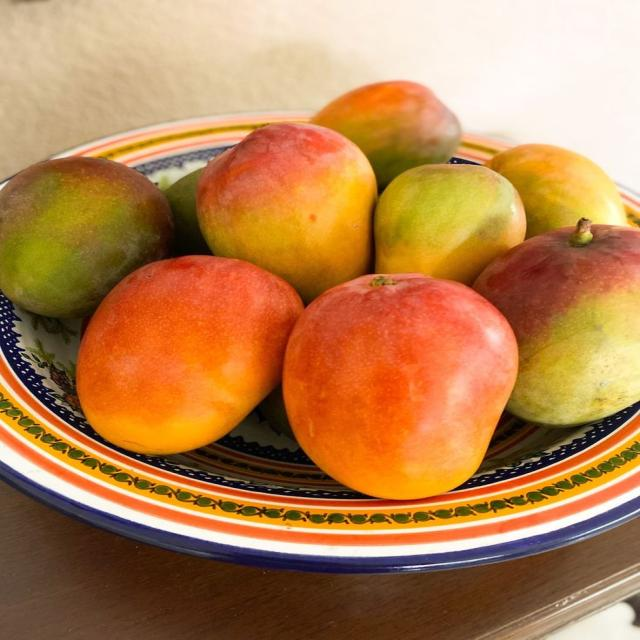mango: (283, 274, 517, 499), (78, 256, 302, 454), (474, 219, 639, 426), (197, 122, 376, 302), (0, 157, 173, 317), (374, 165, 526, 284), (312, 81, 461, 189), (487, 144, 626, 238), (165, 168, 210, 255)
